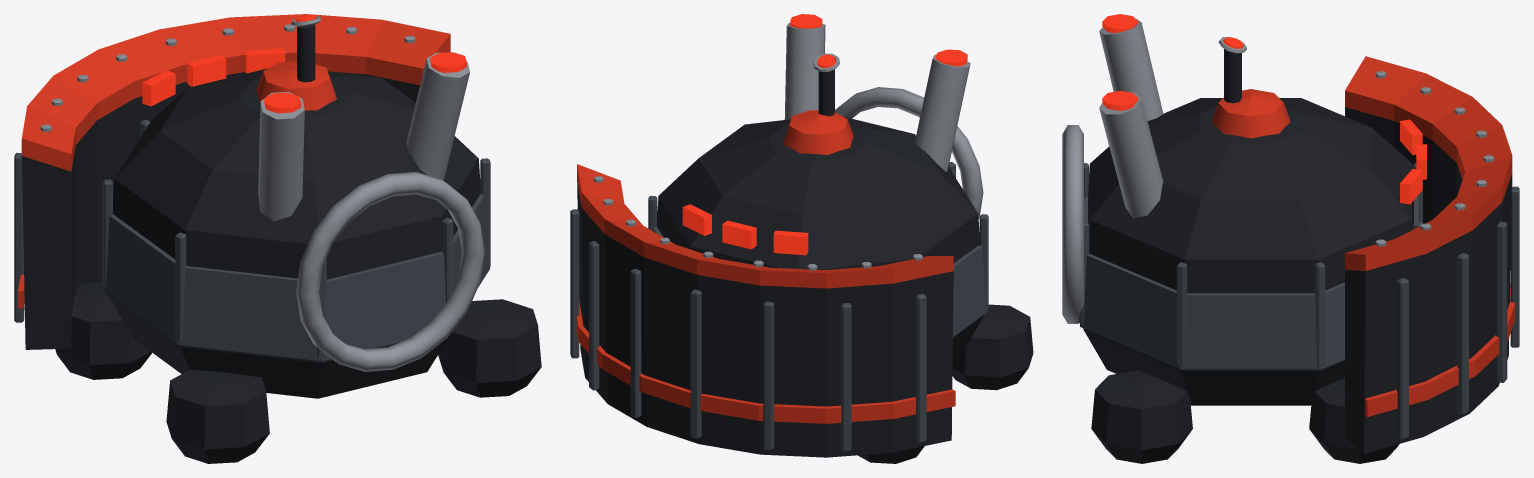
File: warden.glb
3 renders of one model, left to right at view 1: azimuth 30°, elevation 25°; view 2: azimuth 150°, elevation 25°; view 3: azimuth 270°, elevation 25°, orthographic. The views are drawn at different scales.
Parts seen in each view (by area): view 1: warden_mesh; view 2: warden_mesh; view 3: warden_mesh.
Boxes of the visible parts, bbox=[...] form: warden_mesh: bbox=[14, 14, 541, 463]; warden_mesh: bbox=[570, 14, 1033, 463]; warden_mesh: bbox=[1062, 14, 1519, 463].
Size of the model in its own units: 2.62 by 2.11 by 2.52.
